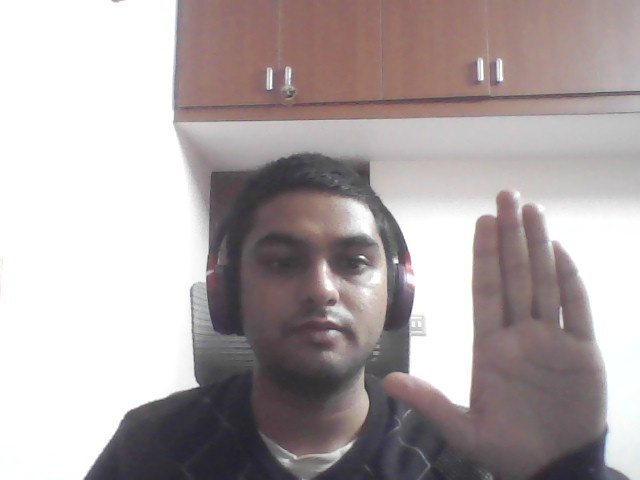Hello: (374, 186, 625, 478)
